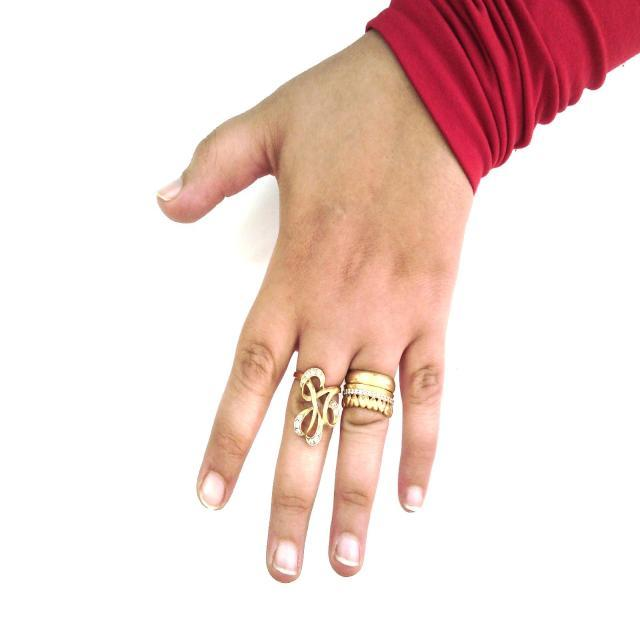Fingernail: (335, 533, 360, 566), (274, 541, 298, 575), (202, 473, 225, 508), (158, 179, 182, 200), (405, 486, 422, 510)
